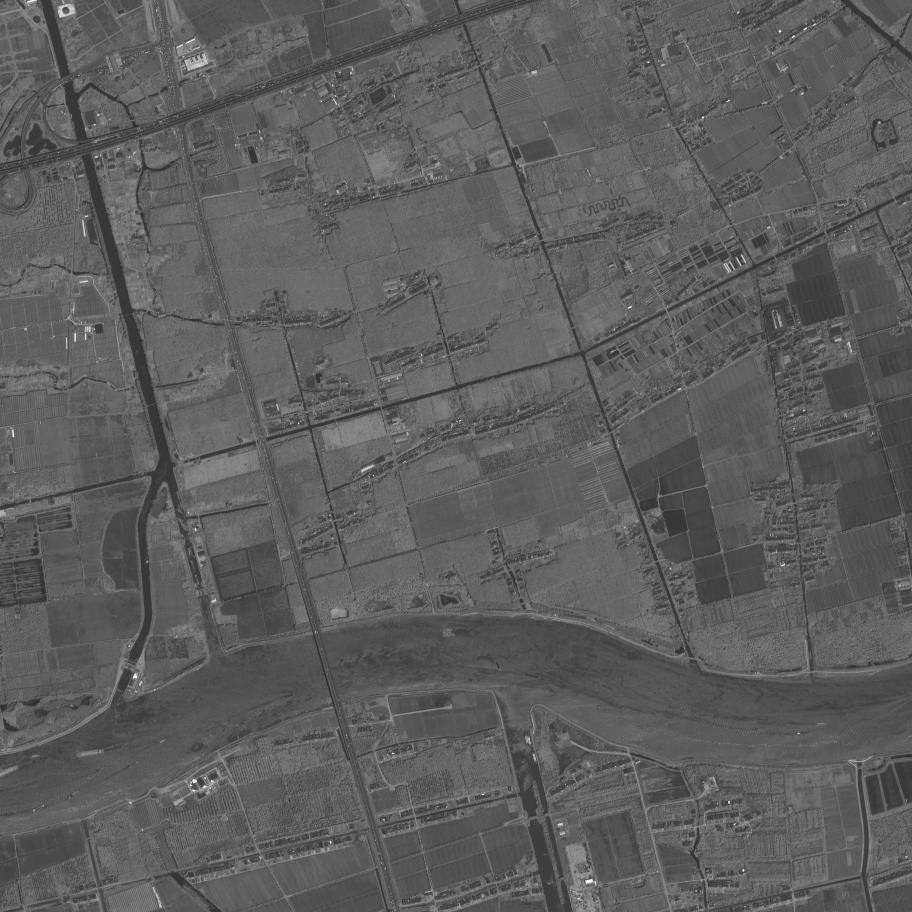ship: (76, 748, 105, 758), (125, 760, 140, 770), (493, 658, 503, 672), (31, 804, 46, 813), (66, 790, 79, 800), (280, 692, 296, 700), (525, 673, 541, 680), (651, 712, 666, 719), (156, 737, 168, 745), (96, 765, 108, 773), (175, 490, 182, 503), (190, 545, 197, 558), (531, 751, 538, 764), (190, 560, 197, 572), (194, 574, 200, 586), (27, 754, 41, 759), (443, 627, 457, 632), (524, 732, 529, 746), (527, 735, 532, 748), (221, 720, 231, 726), (796, 731, 811, 735), (442, 633, 456, 637), (813, 722, 827, 726), (179, 501, 184, 512), (183, 515, 188, 525), (189, 547, 194, 557), (779, 723, 790, 727), (755, 728, 768, 731), (187, 547, 191, 556), (758, 719, 770, 722), (442, 631, 453, 634)
